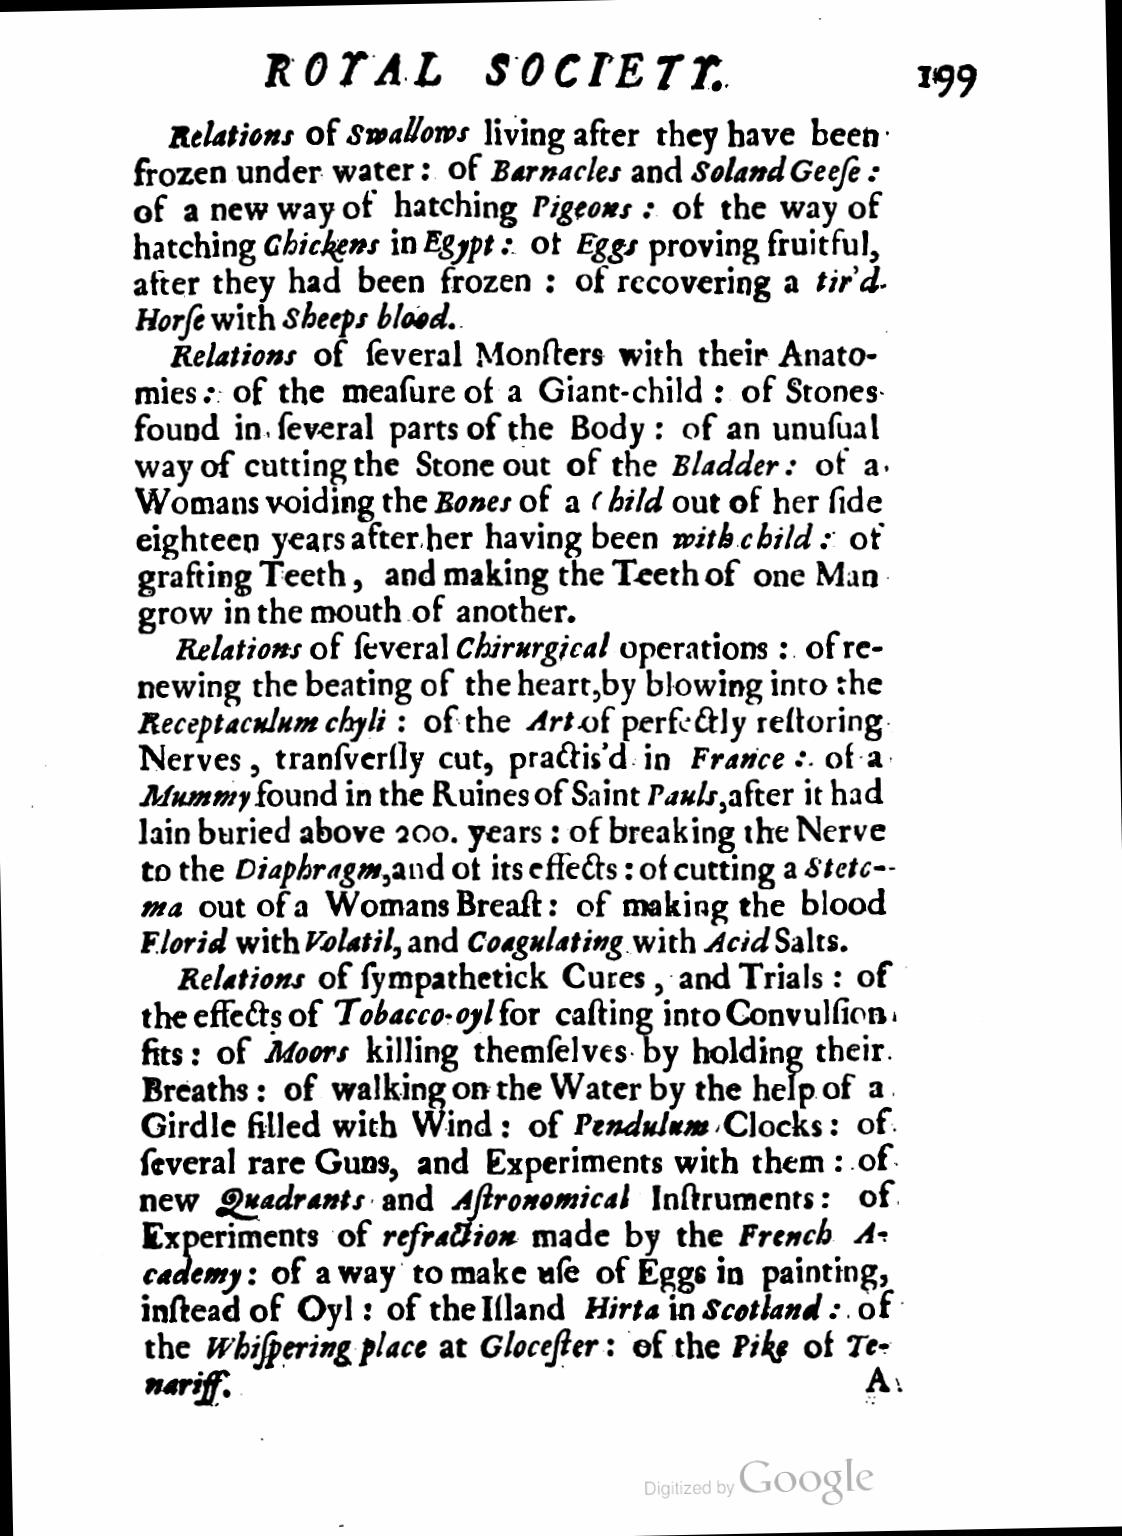catchword: (858, 1361, 893, 1400)
full_p: (136, 961, 895, 1410), (134, 630, 887, 960), (132, 339, 887, 634), (130, 112, 888, 340)
header: (261, 49, 727, 94)
page_num: (913, 61, 981, 101)
